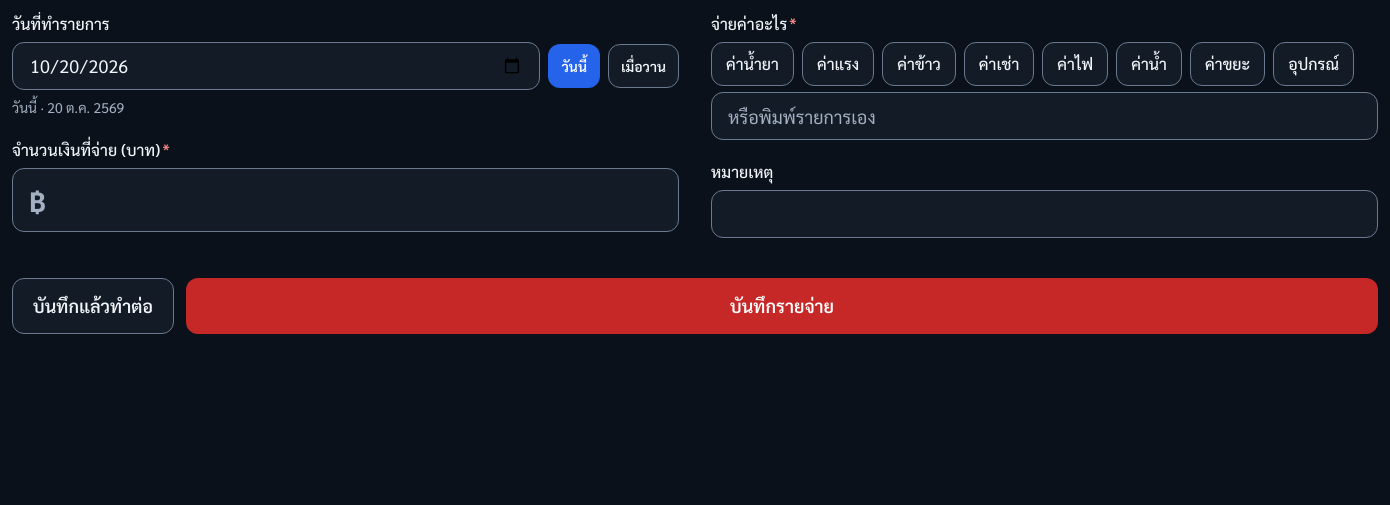
it: ExpenseEditor › refuses an empty amount (AC-10-2)
The width and height of the screenshot is (1390, 505).
Click the radio button labelled "ค่าไฟ" at (1075, 64), box top-left (1042, 42), bottom-right (1108, 86)
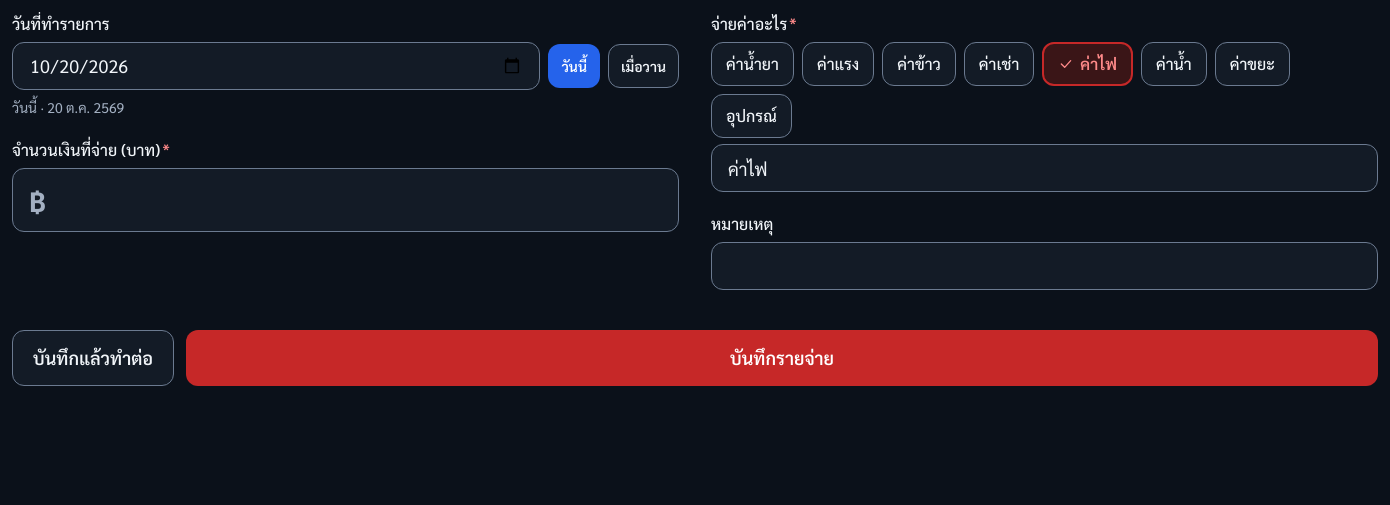
Click the button "บันทึกรายจ่าย" at (782, 358), box top-left (186, 330), bottom-right (1378, 386)
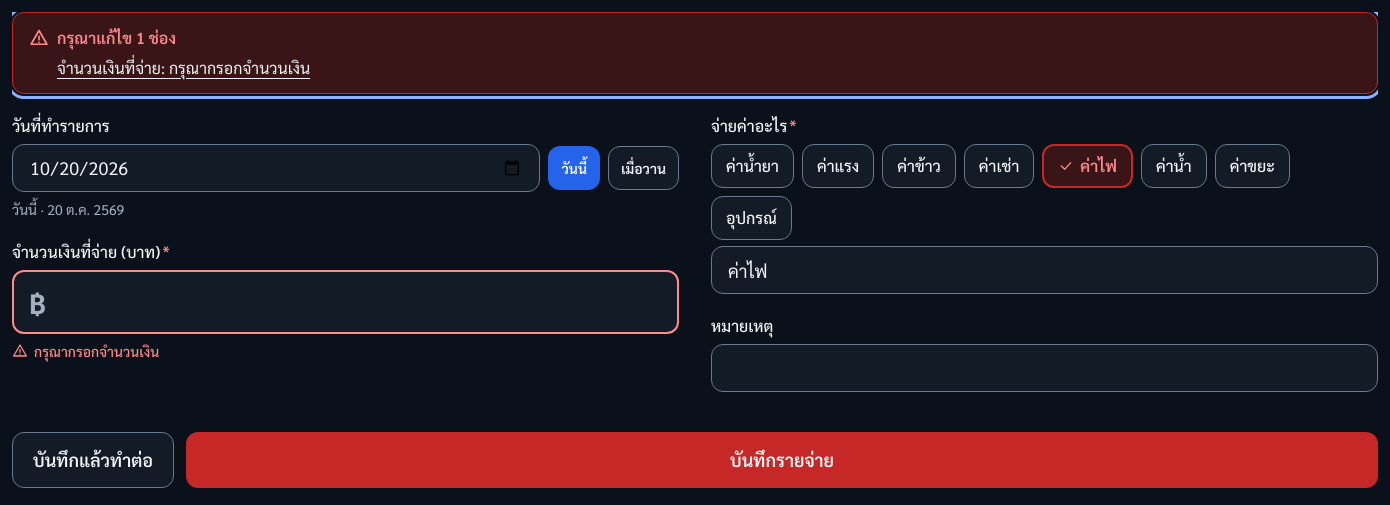
Expected: the message shows "กรุณาแก้ไข 1 ช่อง", top-left (12, 12), bottom-right (1378, 94)
